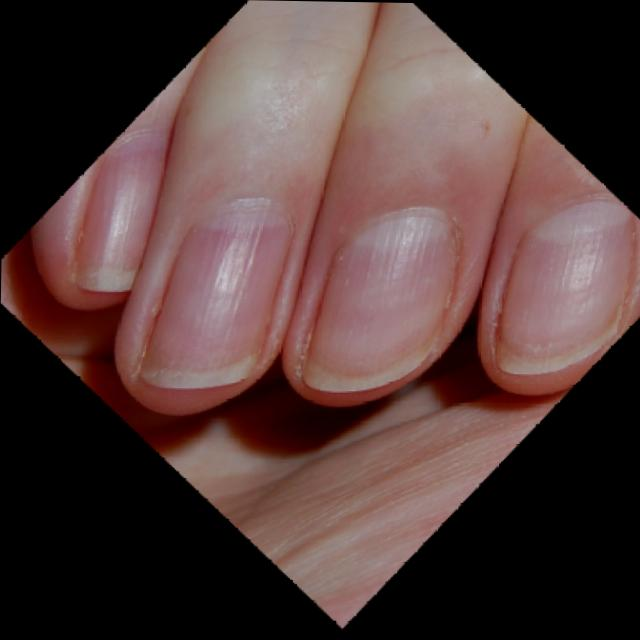Nail: (141, 196, 293, 386), (304, 208, 458, 390), (499, 198, 633, 371), (73, 135, 166, 289)
